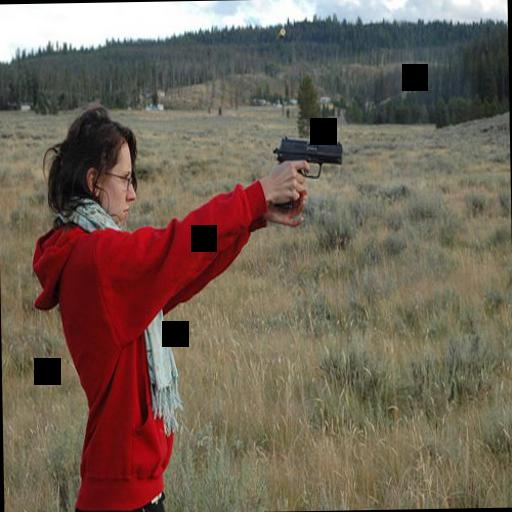Handgun: (271, 132, 343, 208)
